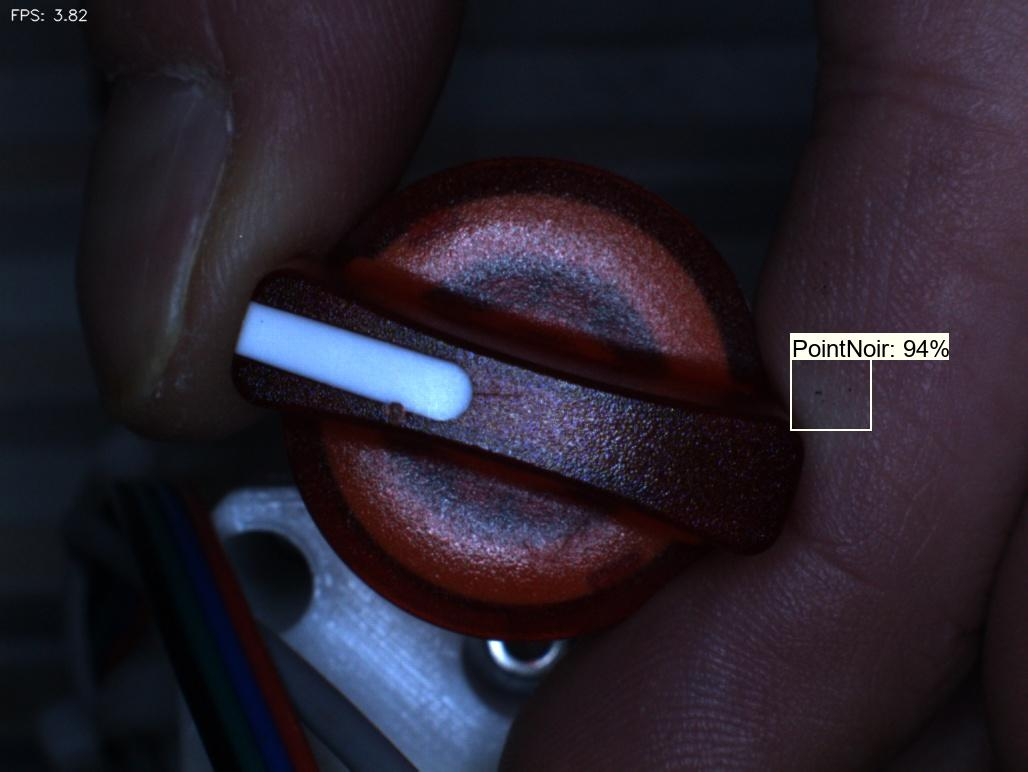Choc: (342, 372, 446, 460)
